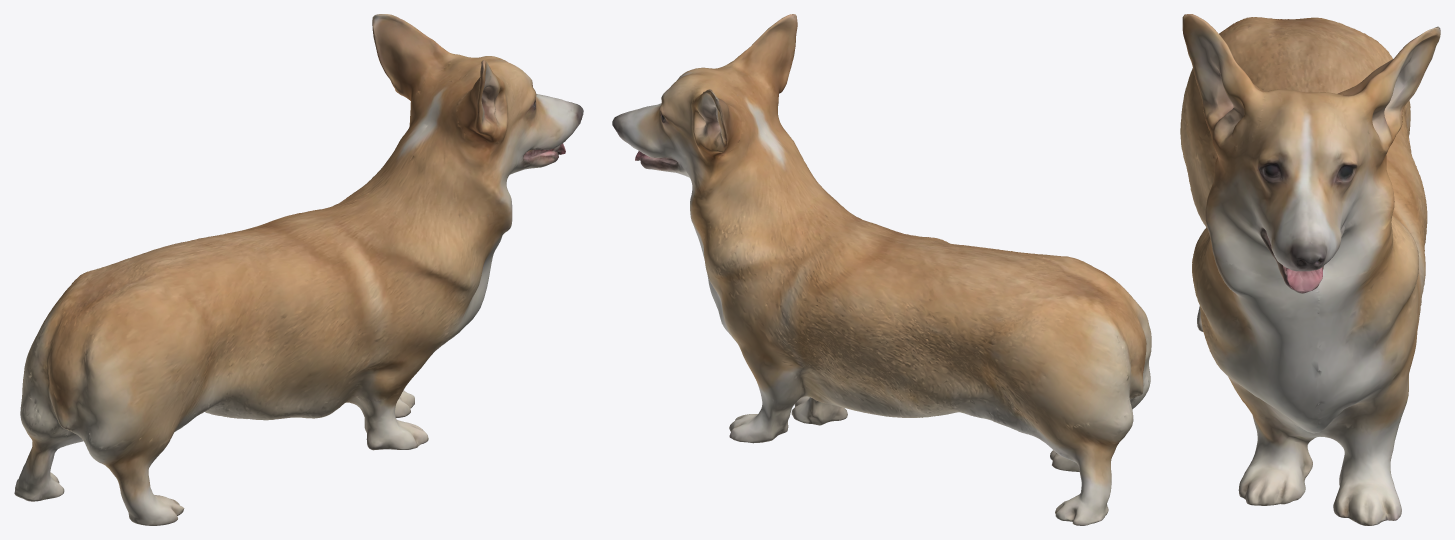
The model's file is corgi-transformed.glb.
3 views of the same model, side by side, from view 1: azimuth 30°, elevation 25°; view 2: azimuth 150°, elevation 25°; view 3: azimuth 270°, elevation 25° (orthographic). The views are drawn at different scales.
Visible parts, largest first — view 1: dog_mesh_22_Material #25_0; view 2: dog_mesh_22_Material #25_0; view 3: dog_mesh_22_Material #25_0.
Boxes of the visible parts, <box> form: dog_mesh_22_Material #25_0: <box>14,14,583,525</box>; dog_mesh_22_Material #25_0: <box>612,14,1151,525</box>; dog_mesh_22_Material #25_0: <box>1180,14,1440,525</box>.
Bounding box in the file's own units: 0.8113 × 0.5458 × 0.2493.
1 material, 1 textured.
